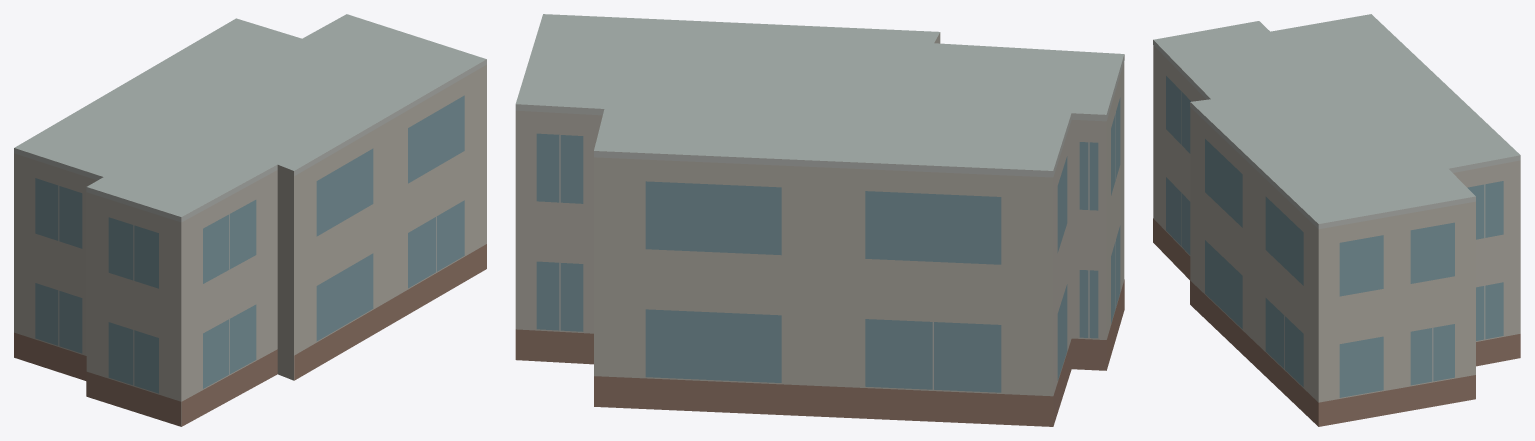
File: survey-upis-33027283.glb
3 renders of one model, left to right at view 1: azimuth 30°, elevation 25°; view 2: azimuth 150°, elevation 25°; view 3: azimuth 270°, elevation 25°, orthographic. The views are drawn at different scales.
Visible parts, largest first — view 1: survey-upis-33027283.tmp; view 2: survey-upis-33027283.tmp; view 3: survey-upis-33027283.tmp.
Part boxes in pixels (x1=…): survey-upis-33027283.tmp: x1=14, y1=14, x2=486, y2=426; survey-upis-33027283.tmp: x1=515, y1=14, x2=1124, y2=426; survey-upis-33027283.tmp: x1=1153, y1=14, x2=1520, y2=426.
Size of the model in its own units: 21.35 by 9.6 by 15.78.
